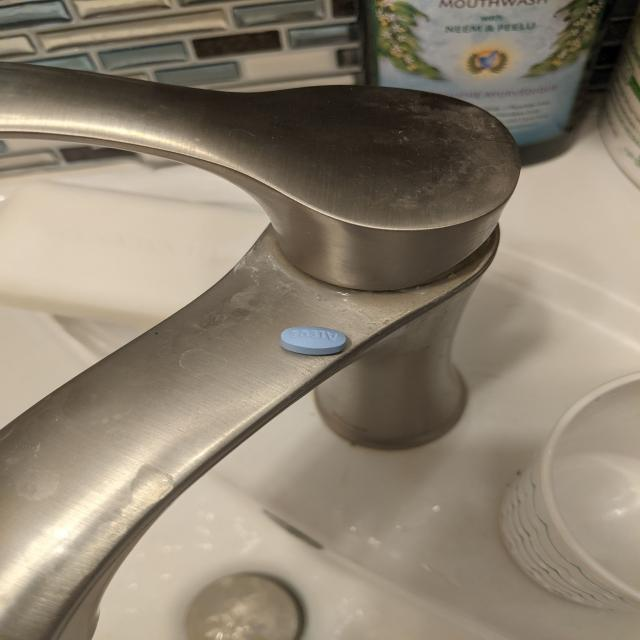non-organic waste: (280, 325, 347, 356)
